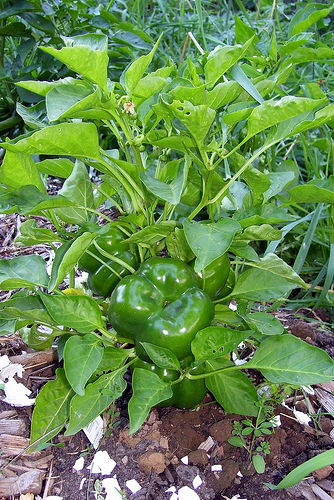capsicum: (106, 255, 215, 365), (76, 228, 141, 292), (146, 362, 207, 411)
